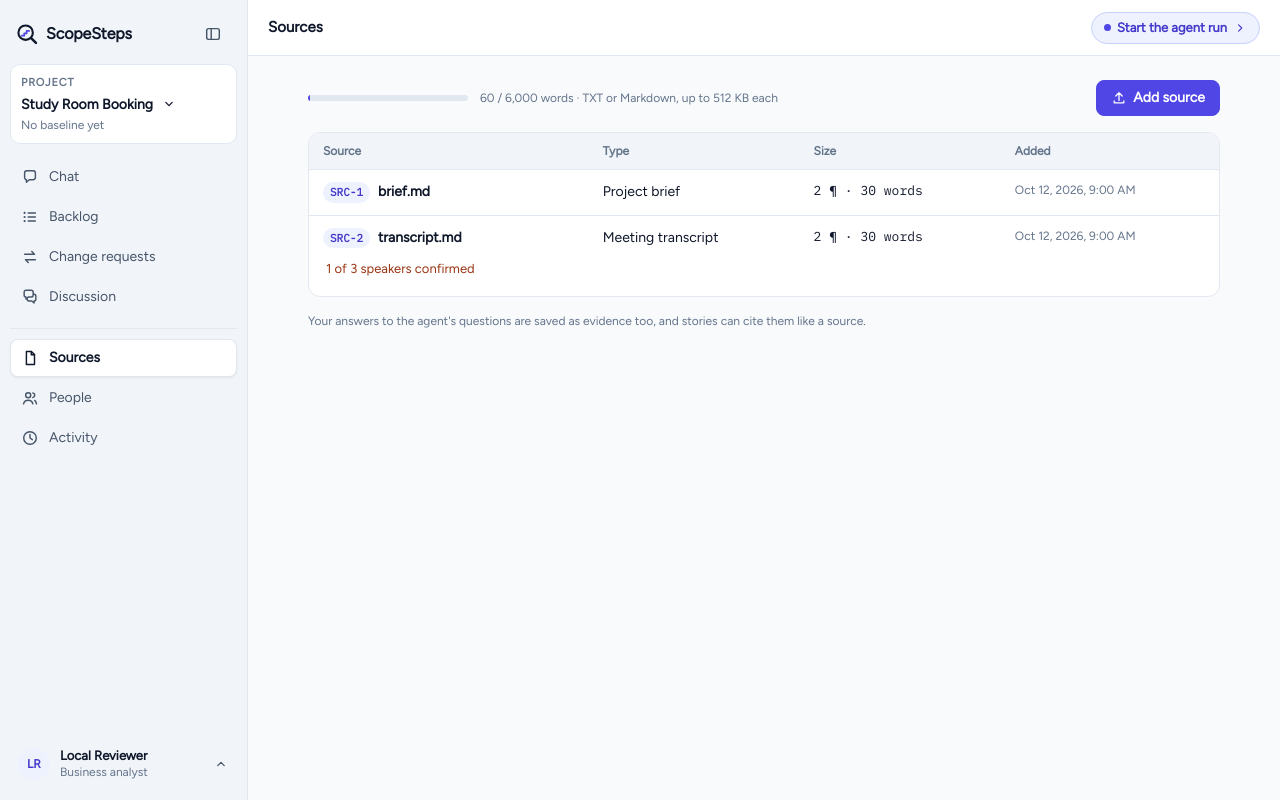
Test: Who's who › reloads the latest answers on a 409 and says why nothing was saved
Click the button with aria-label "Who's who in SRC-2 transcript.md" at (400, 269), box [315, 254, 486, 284]
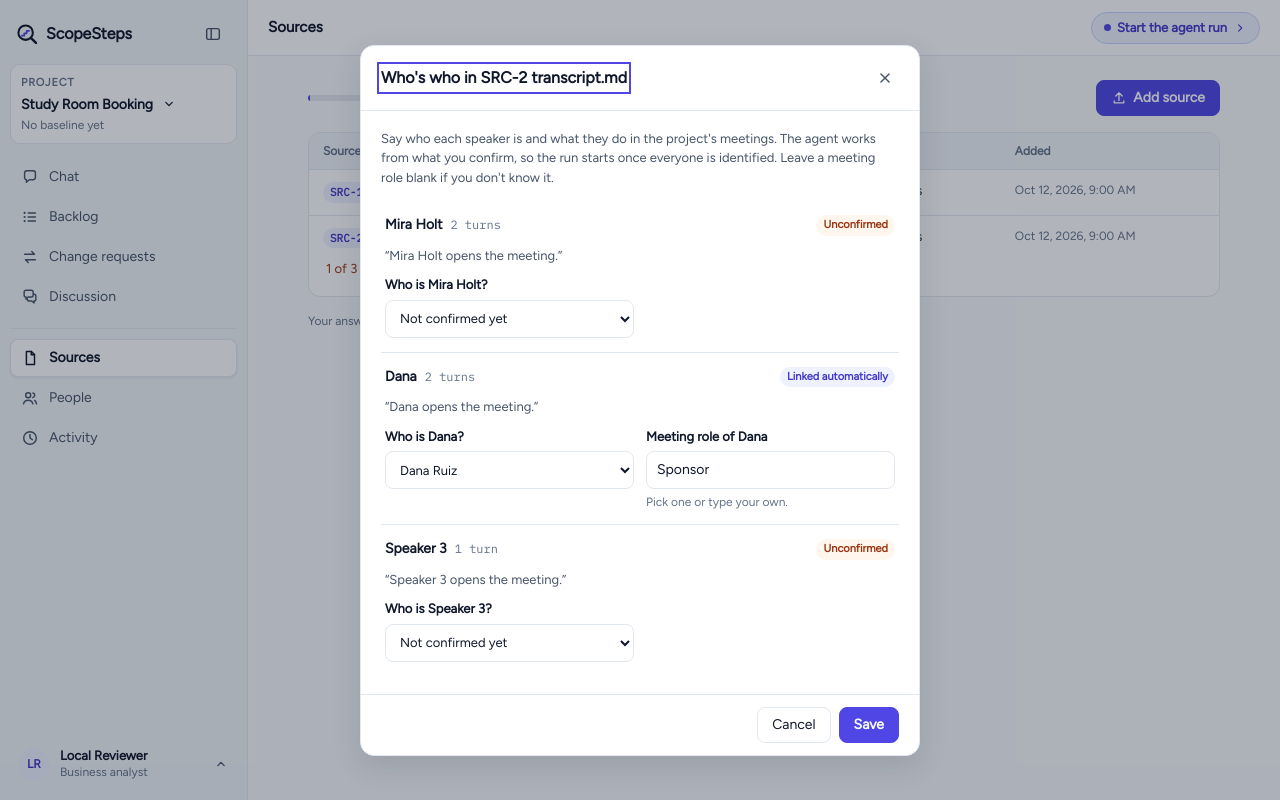
Select "Not a person" in the dropdown labelled "Who is Mira Holt?" at (510, 318), box [385, 300, 634, 338]
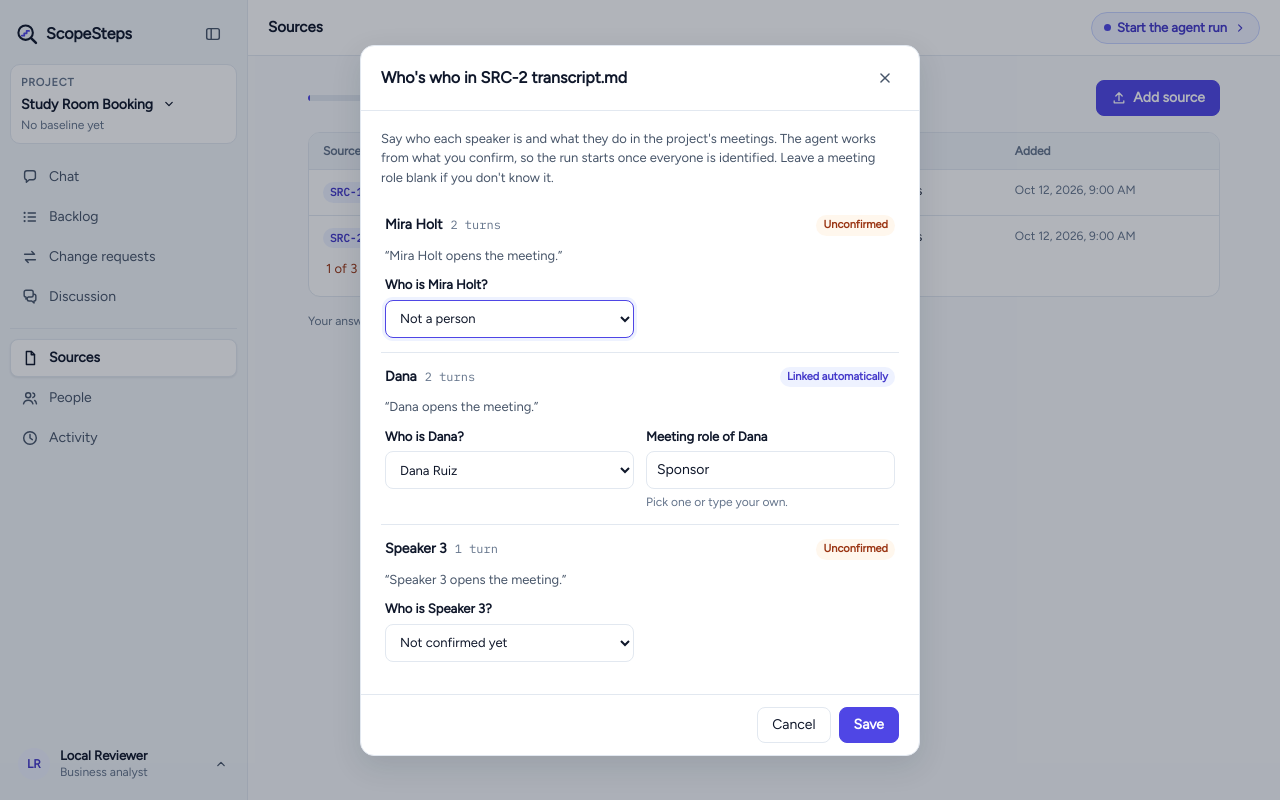
Click the button "Save" at (869, 724), box [839, 706, 899, 742]
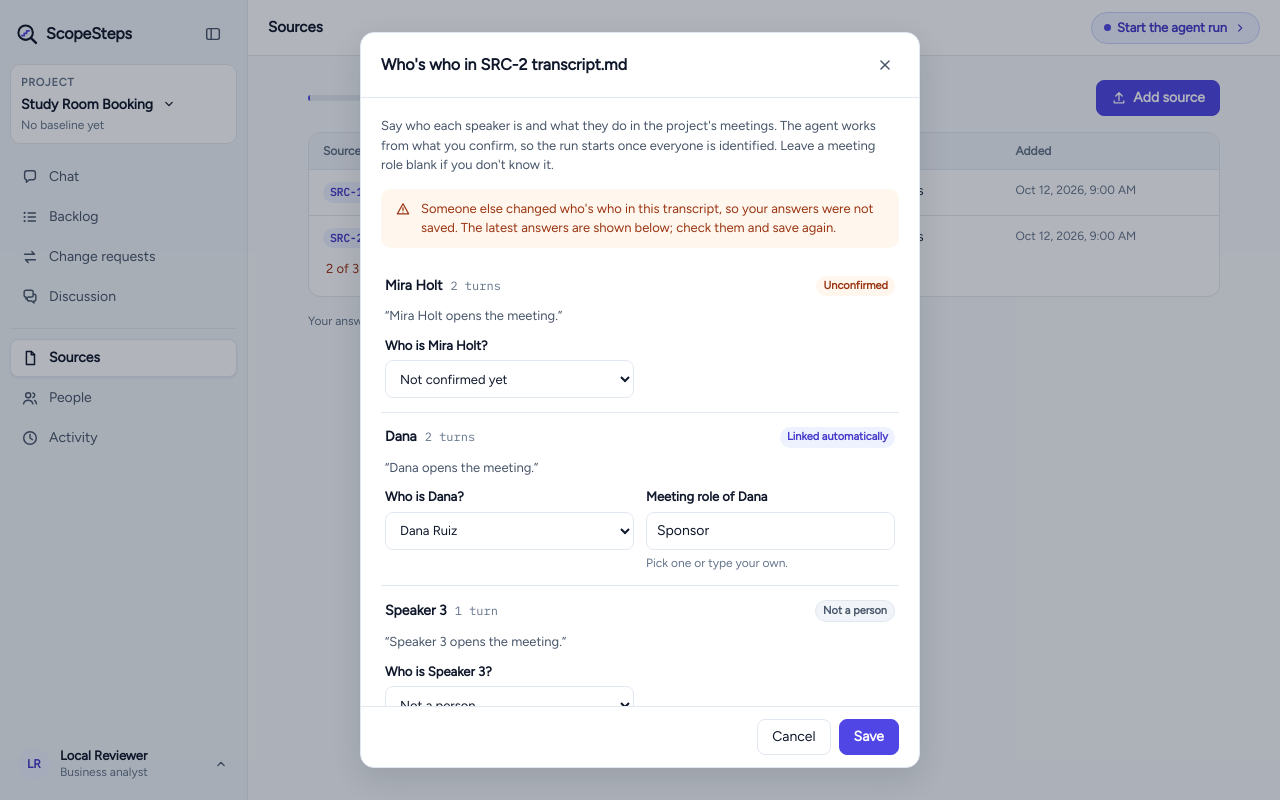
Now the message shows "Someone else changed who's who in this transcript, so your answers were not saved.", box [421, 200, 874, 235]
Now the dropdown labelled "Who is Mira Holt?" shows "Not confirmed yet", box [385, 360, 634, 398]
